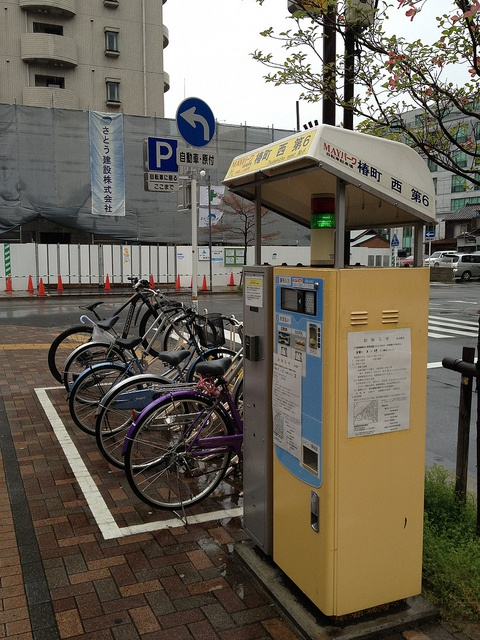non-vehicle: (124, 315, 246, 529), (70, 313, 243, 434), (46, 272, 181, 384), (62, 288, 195, 392), (87, 351, 192, 471)
